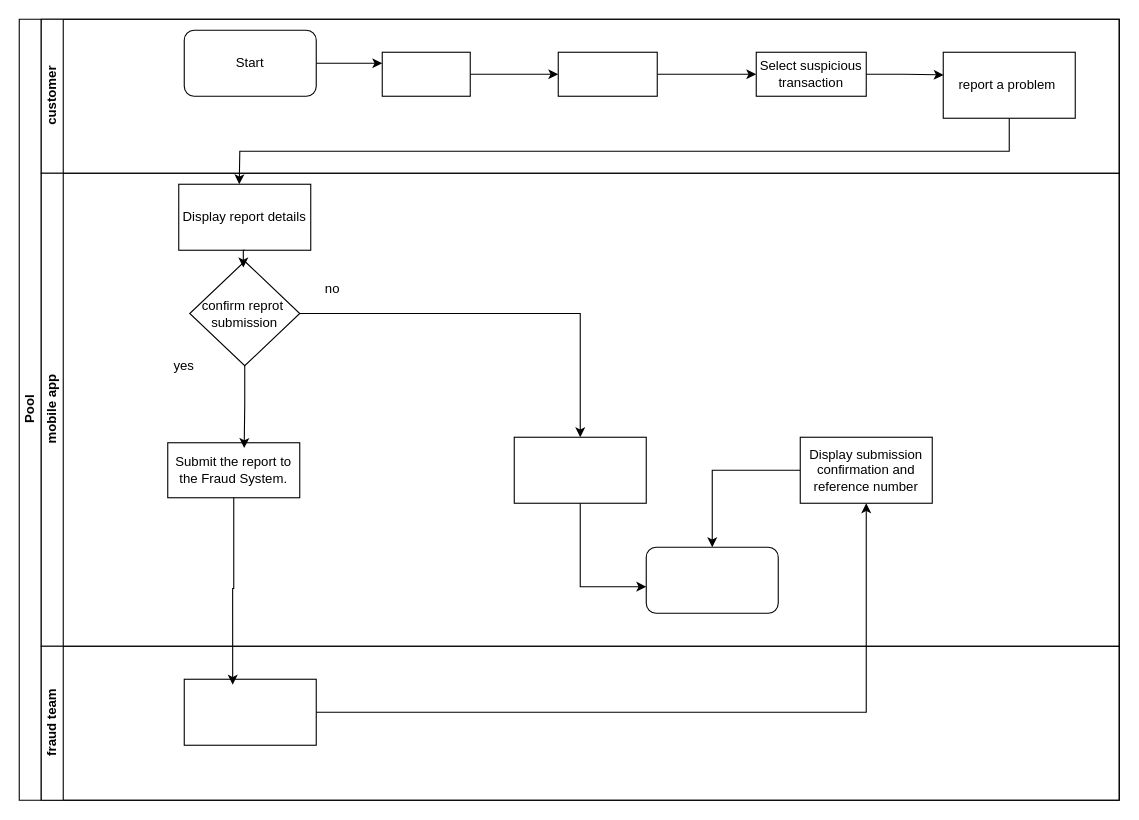
Some shapes in this 1139 by 820 pixel diagram are drawn without their labels. The centre of each missing label's shape, as x and y in pixels:
Do not submit the report;: pixel 579 469
login to the app with valid credentials: pixel 425 73
Receive confirmation and record submission: pixel 249 711
Stop: pixel 711 579
view the transaction history: pixel 607 73
